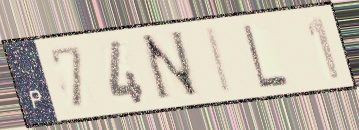1: (306, 14, 342, 82)
4: (106, 36, 148, 107)
7: (48, 43, 87, 111)
I: (204, 24, 236, 96)
L: (239, 21, 292, 90)
N: (138, 28, 204, 105)
